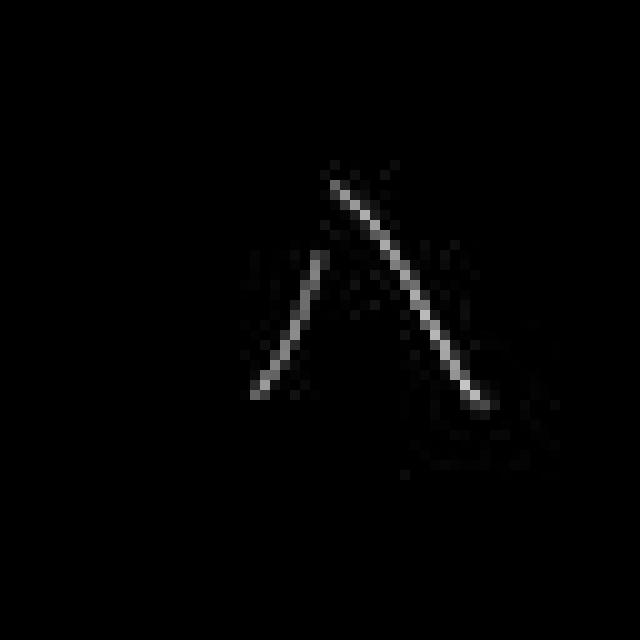8 -eight-: (243, 161, 501, 427)
